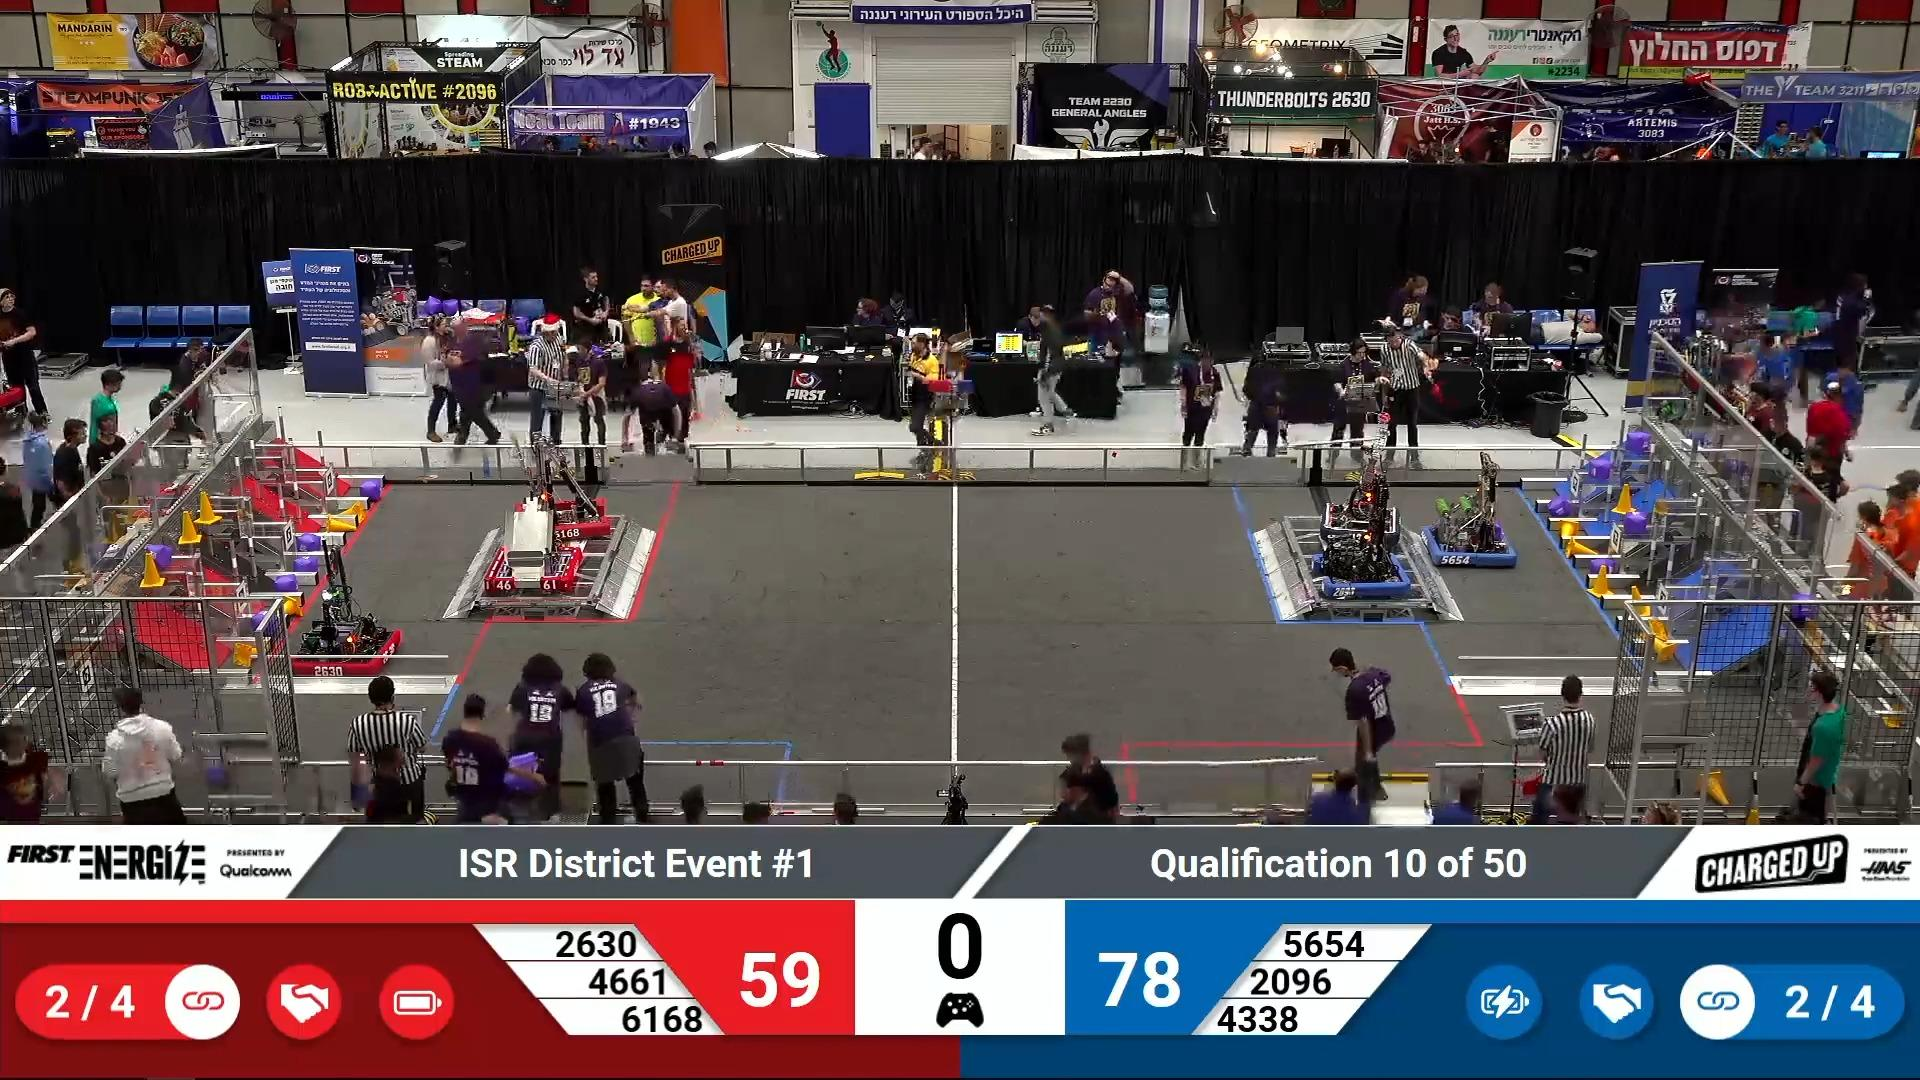robot: (282, 543, 410, 686), (1424, 447, 1520, 571), (510, 427, 611, 535), (1308, 456, 1402, 547), (484, 509, 584, 593), (1304, 538, 1416, 604)
